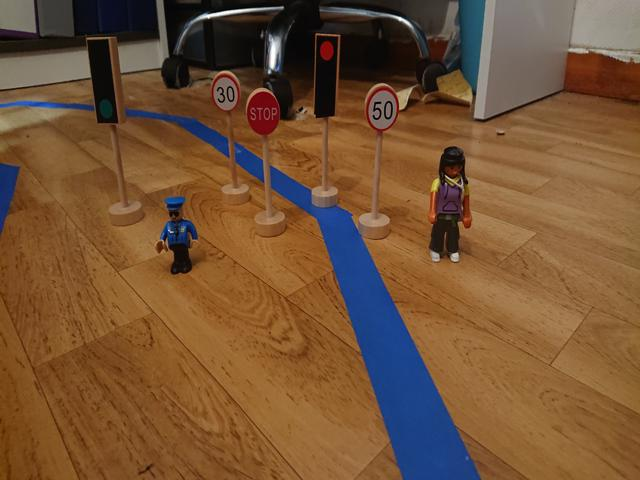30 speed sign: (208, 72, 242, 113)
50 speed sign: (365, 85, 398, 131)
green light: (92, 41, 115, 125)
person: (423, 145, 475, 267), (154, 190, 199, 276)
red light: (315, 35, 335, 117)
stop sign: (245, 92, 280, 135)
